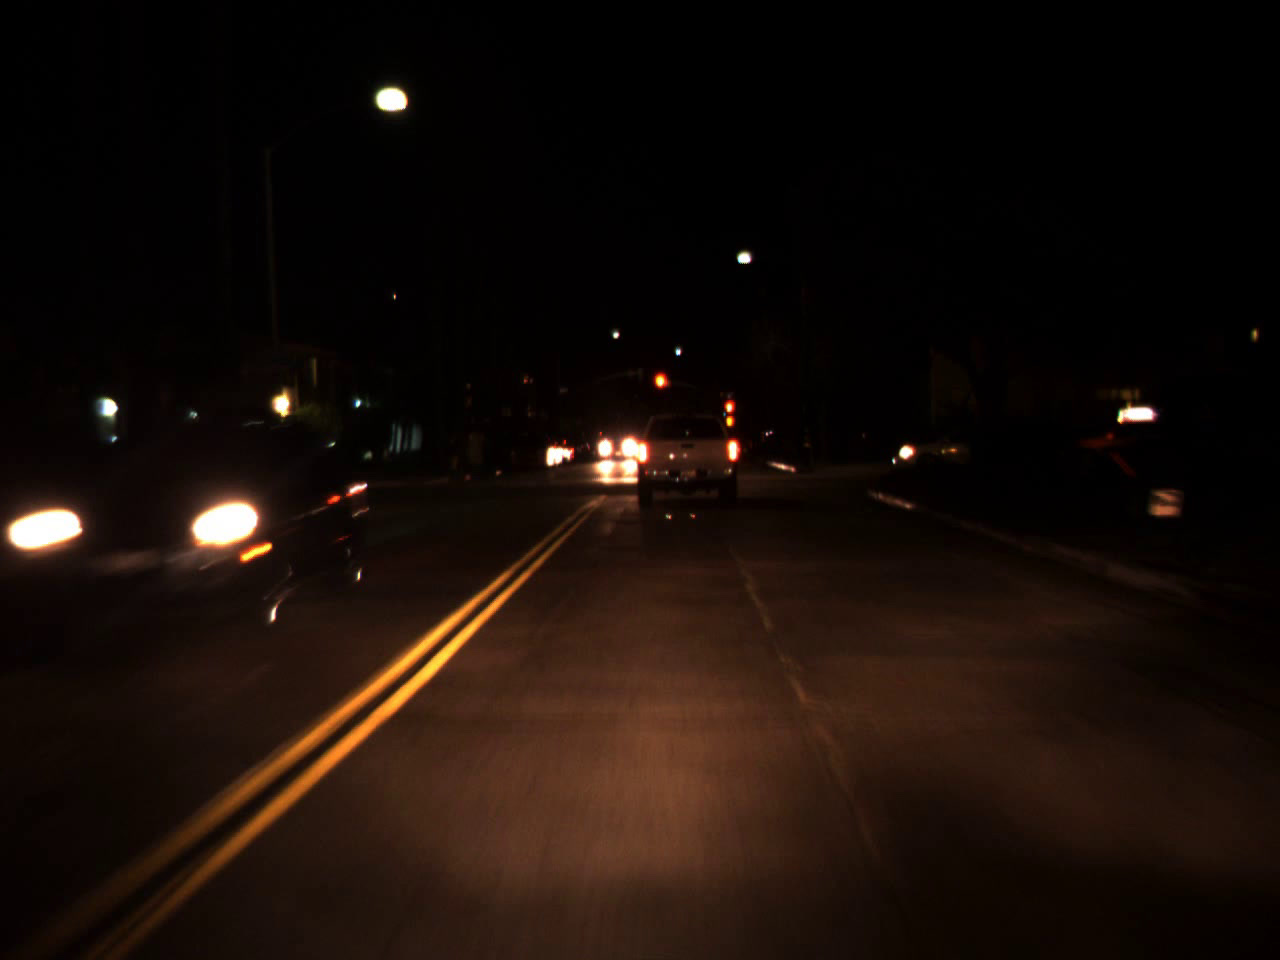stop: (653, 372, 669, 404), (722, 398, 735, 427)
